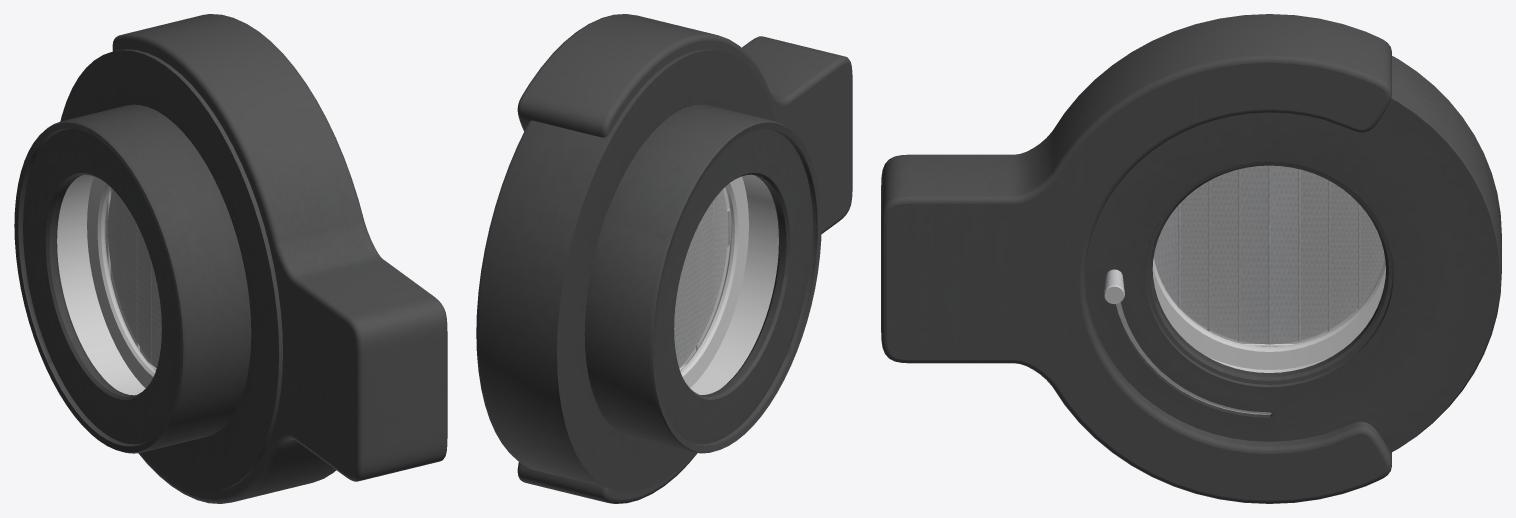
File: IluminR.fbx
The picture shows the model from 3 angles, left to right: view 1: azimuth 30°, elevation 25°; view 2: azimuth 150°, elevation 25°; view 3: azimuth 270°, elevation 25°; orthographic projection. The views are drawn at different scales.
Parts seen in each view (by area): view 1: I_Cover, I_BOut, I_BIn, I_Glass, I_SSeven, I_SSix, I_SEight, I_SFive; view 2: I_BOut, I_BIn, I_Cover, I_Glass, I_STwo, I_SThree, I_SOne, I_SFour; view 3: I_Cover, I_BIn, I_Glass, I_SFour, I_SFive, I_SThree, I_SSix, I_STwo, I_SSeven, I_SOne, I_SEight.
Part boxes in pixels (x1,y1,x2,y2): I_Cover: (112, 14, 447, 503); I_BOut: (14, 104, 251, 453); I_BIn: (60, 49, 282, 492); I_Glass: (57, 175, 161, 394); I_SSeven: (122, 200, 137, 339); I_SSix: (136, 223, 151, 361); I_SEight: (107, 190, 122, 306); I_SFive: (151, 264, 161, 367); I_BOut: (584, 104, 821, 453); I_BIn: (476, 49, 775, 491); I_Cover: (517, 14, 852, 503); I_Glass: (674, 175, 778, 394); I_STwo: (698, 201, 713, 342); I_SThree: (684, 225, 699, 363); I_SOne: (713, 189, 728, 310); I_SFour: (674, 260, 684, 367); I_Cover: (881, 14, 1391, 503); I_BIn: (1085, 56, 1501, 452); I_Glass: (1153, 166, 1385, 372); I_SFour: (1238, 165, 1270, 344); I_SFive: (1268, 165, 1301, 344); I_SThree: (1208, 169, 1240, 341); I_SSix: (1298, 169, 1331, 340); I_STwo: (1178, 180, 1210, 331); I_SSeven: (1328, 181, 1360, 328); I_SOne: (1154, 203, 1180, 309); I_SEight: (1358, 205, 1384, 305).
Size of the model in its own units: 18.41 by 40.63 by 50.99.
